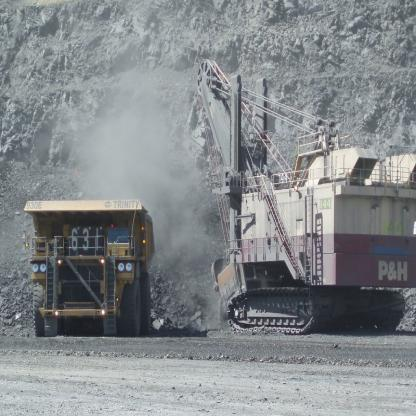dump_truck: (22, 188, 171, 362)
